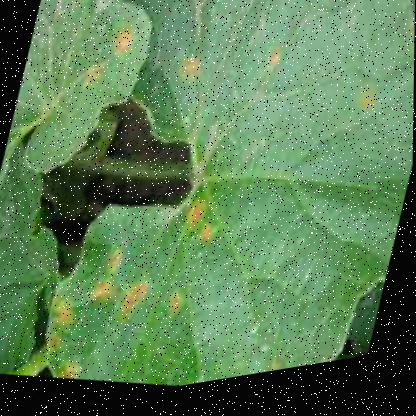AlternariaBrassicicola: (173, 192, 232, 263), (111, 273, 161, 339), (256, 38, 294, 91), (104, 19, 145, 68), (48, 295, 85, 346), (156, 287, 193, 338), (171, 52, 211, 98), (56, 347, 96, 386), (178, 361, 223, 391), (366, 0, 401, 22)
